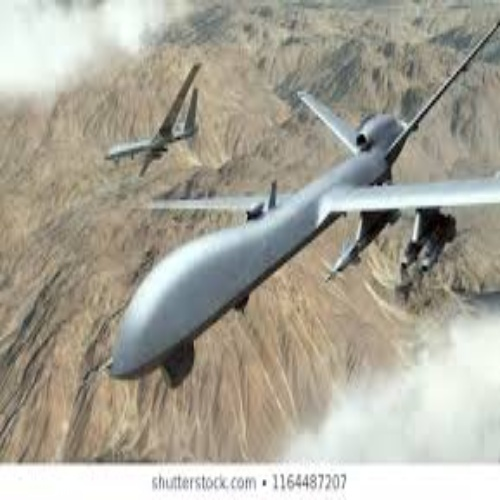uav712: (101, 16, 500, 397), (101, 58, 204, 183)
